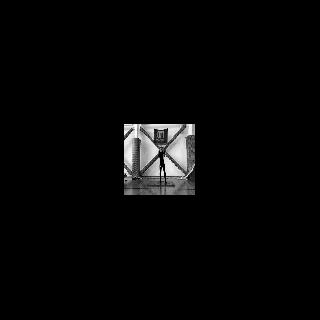kettlebell: (162, 148, 165, 154)
